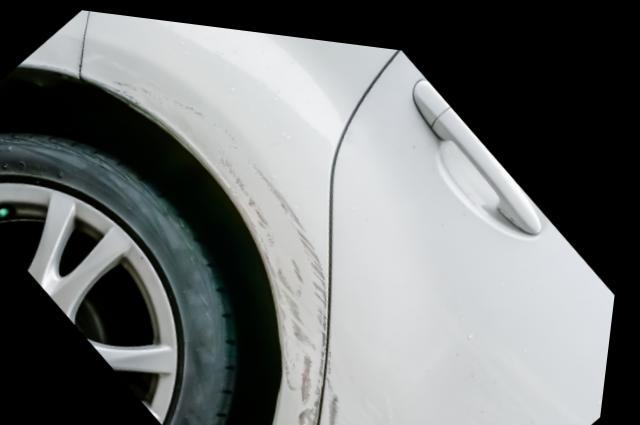scratch: (110, 72, 338, 425), (325, 380, 416, 425)
